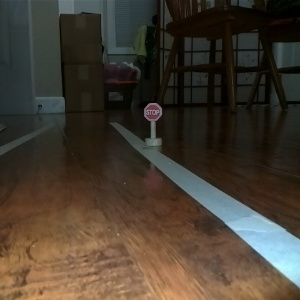stop sign: (142, 100, 165, 149)
